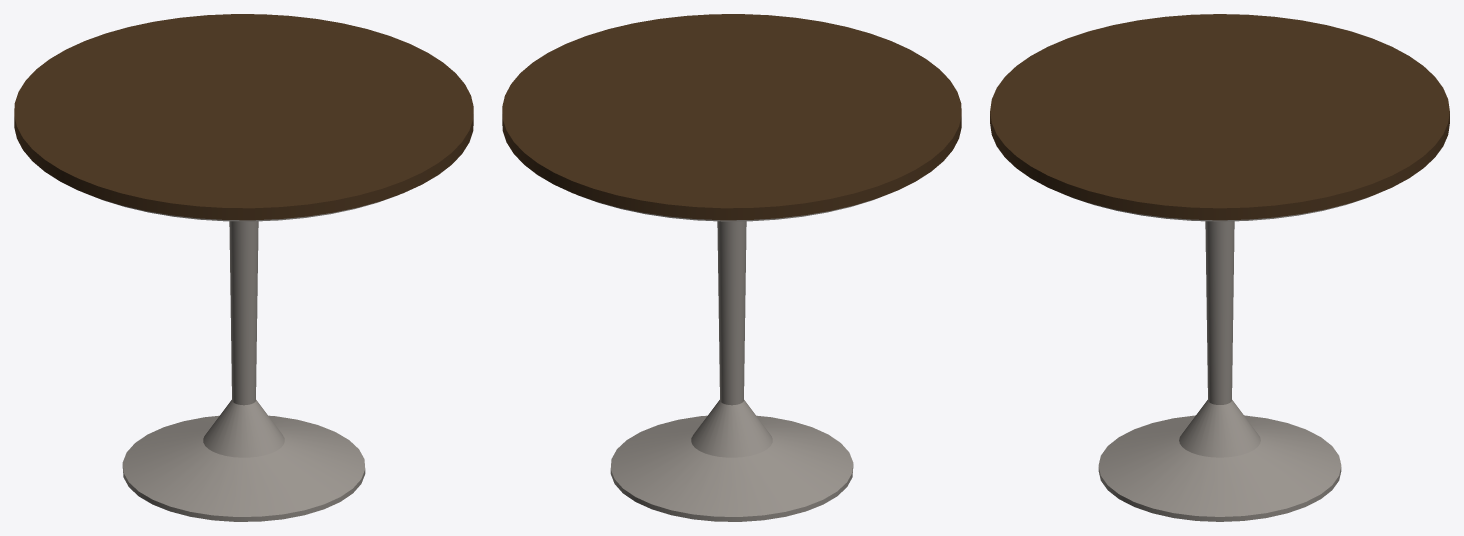
The model's file is table.fbx.
3 renders of one model, left to right at view 1: azimuth 30°, elevation 25°; view 2: azimuth 150°, elevation 25°; view 3: azimuth 270°, elevation 25°, orthographic.
Parts seen in each view (by area): view 1: Cylinder; view 2: Cylinder; view 3: Cylinder.
Boxes of the visible parts, <box> form: Cylinder: <box>14,14,473,521</box>; Cylinder: <box>502,14,961,521</box>; Cylinder: <box>990,14,1449,521</box>.
Size of the model in its own units: 432 by 372 by 432.
